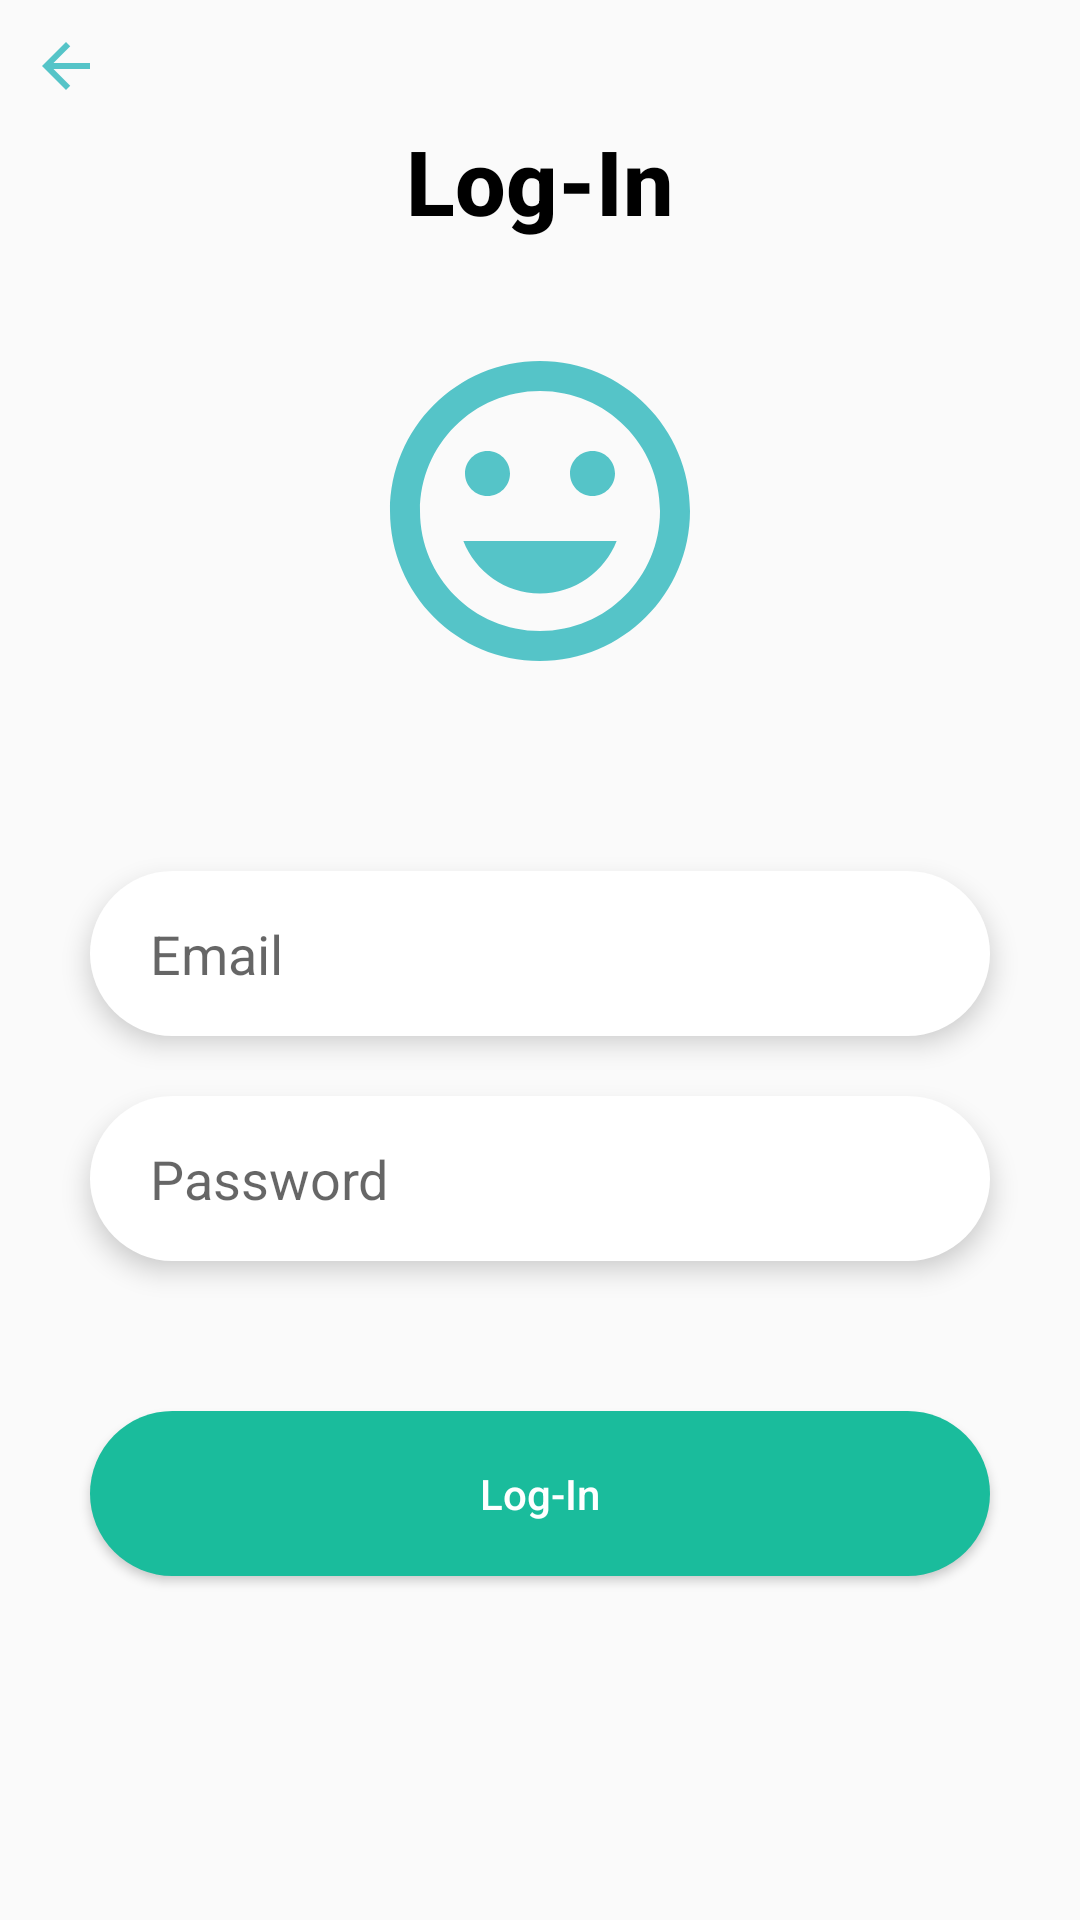

Icons on this 1080w x 1920h Android screen, each with the point to tap as (x=x, y=y):
A happy face: (x=540, y=511)
Back arrow image: (x=66, y=66)
